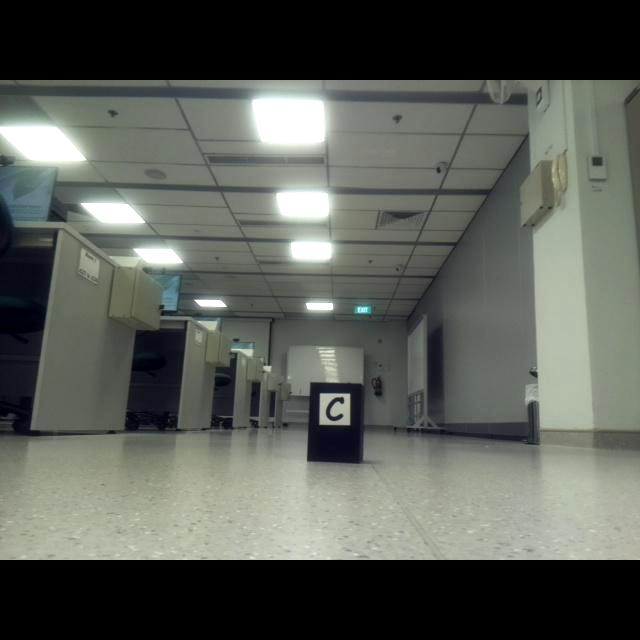C: (325, 397, 345, 423)
